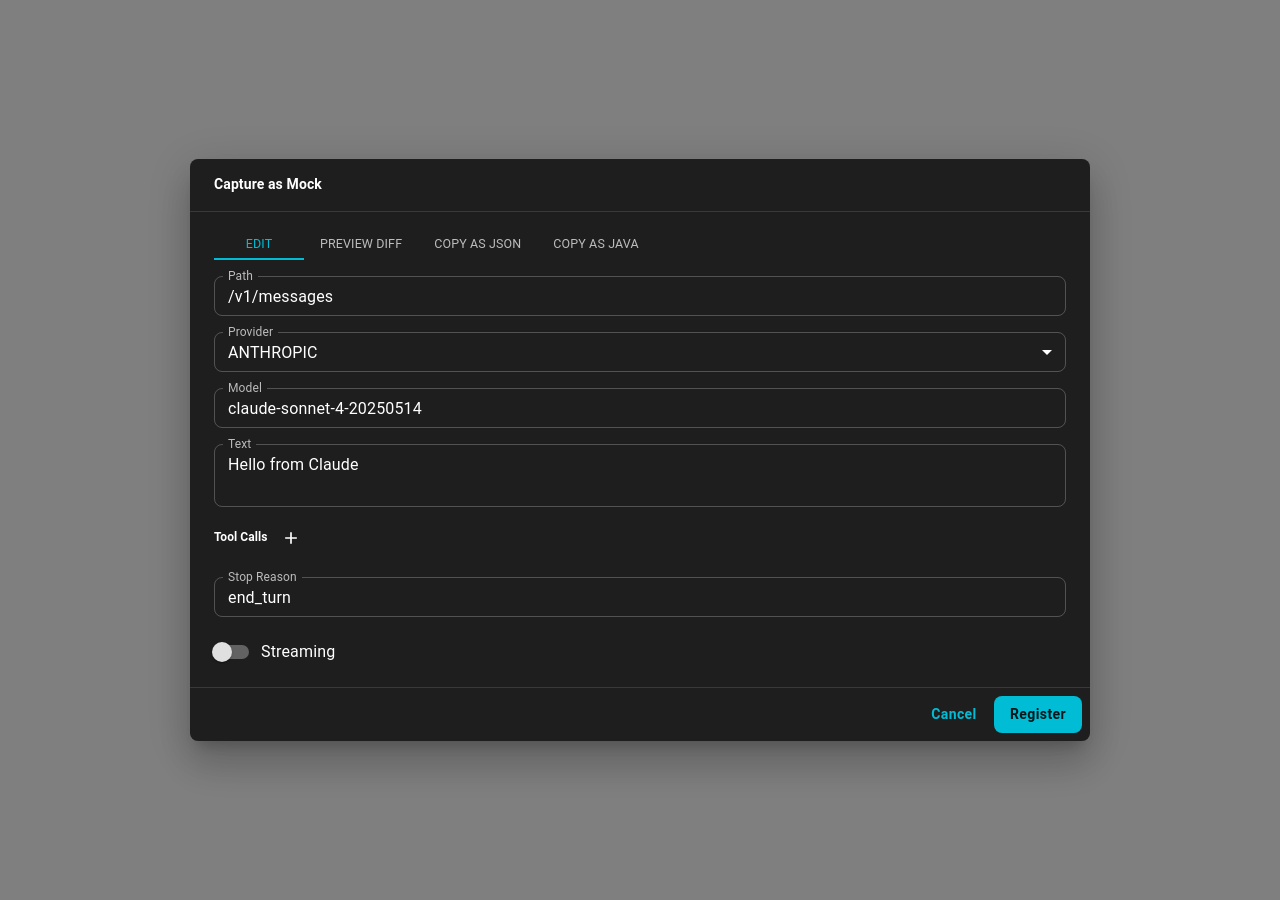
Test case: CaptureAsMockDialog › switches to Copy as JSON tab and shows JSON output
Click the tab "Copy as JSON" at (478, 244), box x1=418 y1=228 x2=537 y2=260
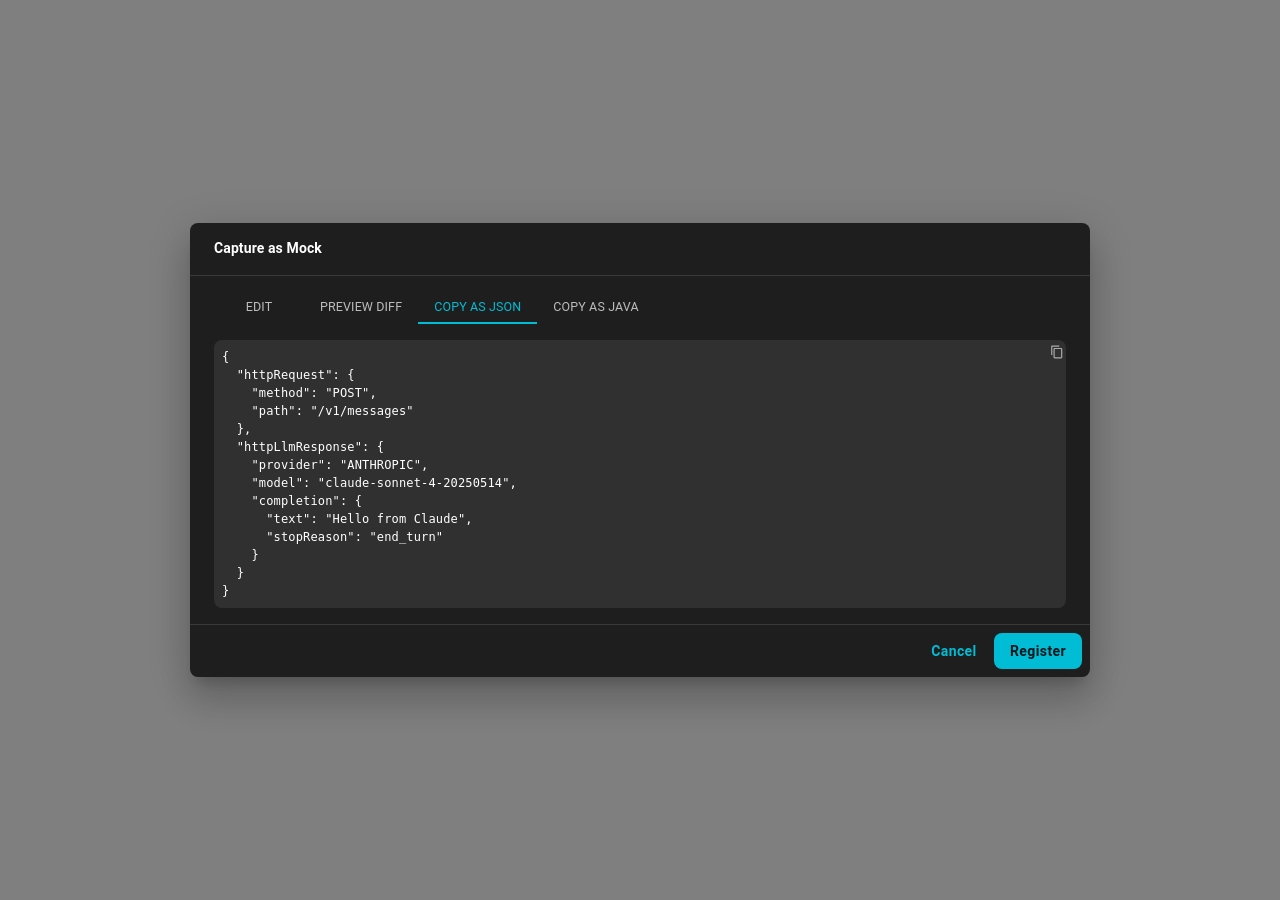
Result: the text "ANTHROPIC" is shown at x1=222 y1=350 x2=517 y2=598
